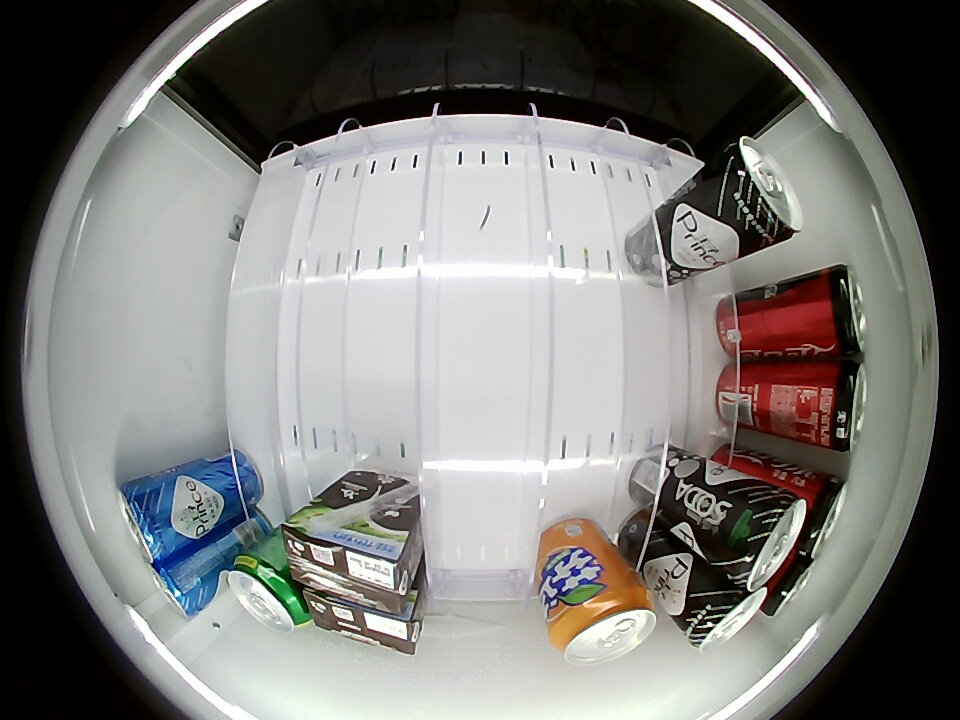fenda: (548, 584, 657, 666)
lingdukele: (802, 264, 866, 359), (806, 360, 867, 452), (793, 471, 848, 560), (763, 553, 817, 618)
qingdaowangzi-1: (715, 136, 802, 248), (719, 486, 805, 590), (680, 576, 767, 652)
qingdaowangzi-2: (116, 474, 182, 564), (144, 552, 218, 617)
weitanai2: (281, 510, 416, 609), (306, 590, 424, 655)
xuebi2: (226, 552, 311, 633)
